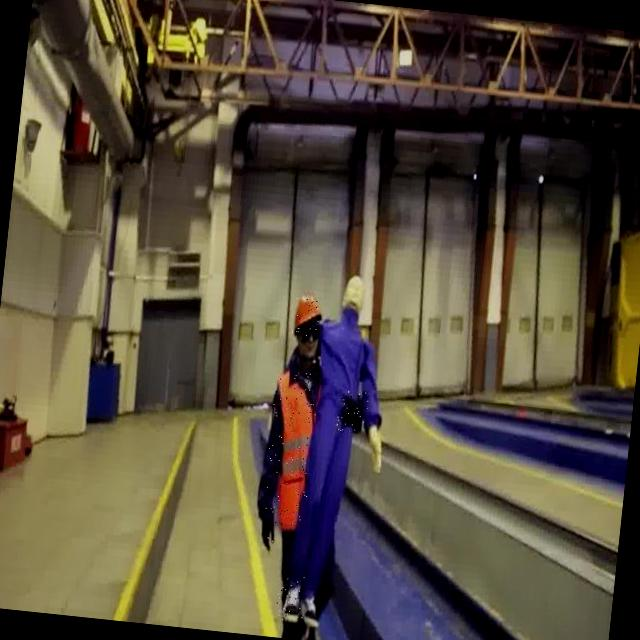gloves: (252, 503, 276, 550)
helmet: (292, 294, 322, 336)
no-boots: (274, 572, 306, 624)
vest: (260, 368, 320, 532)
